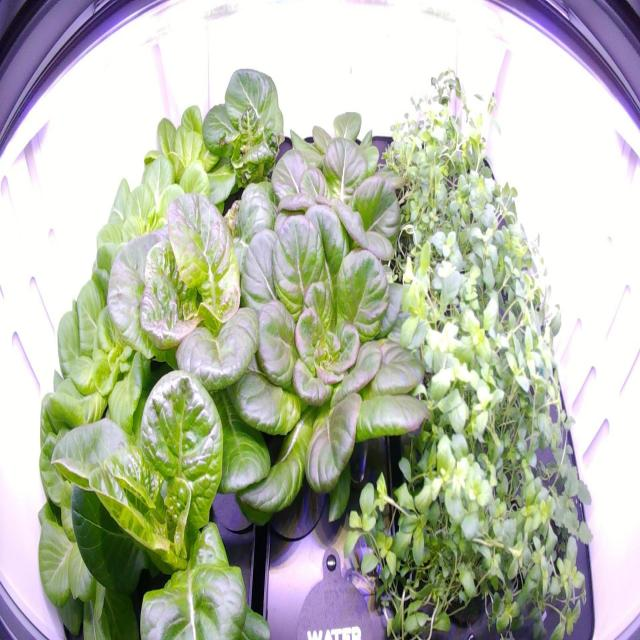Ready: (206, 201, 442, 537), (46, 324, 279, 637), (87, 179, 260, 425), (228, 132, 407, 284)
young: (27, 386, 178, 636), (29, 235, 187, 450), (84, 147, 229, 297), (196, 58, 292, 216), (128, 97, 238, 234), (276, 95, 390, 227)
